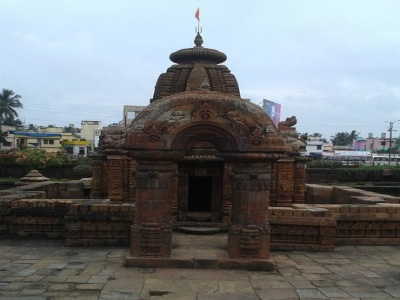gopuram: (114, 82, 296, 268)
